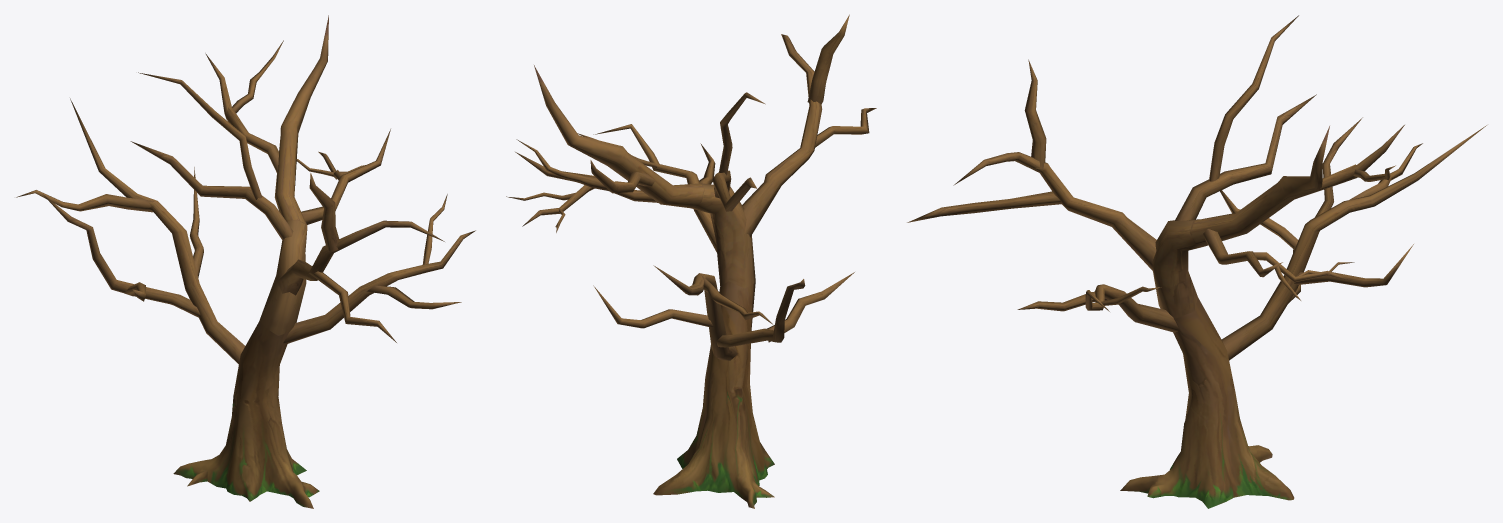
The model's file is scene_lawennushandao_tree01.FBX.
3 views of the same model, side by side, from view 1: azimuth 30°, elevation 25°; view 2: azimuth 150°, elevation 25°; view 3: azimuth 270°, elevation 25° (orthographic). The views are drawn at different scales.
Parts seen in each view (by area): view 1: scene_lawennushandao_tree01; view 2: scene_lawennushandao_tree01; view 3: scene_lawennushandao_tree01.
Part boxes in pixels (x1,y1,x2,y2): scene_lawennushandao_tree01: (16,15,475,508); scene_lawennushandao_tree01: (506,14,876,508); scene_lawennushandao_tree01: (907,15,1486,508).
Size of the model in its own units: 338 by 406 by 500.
